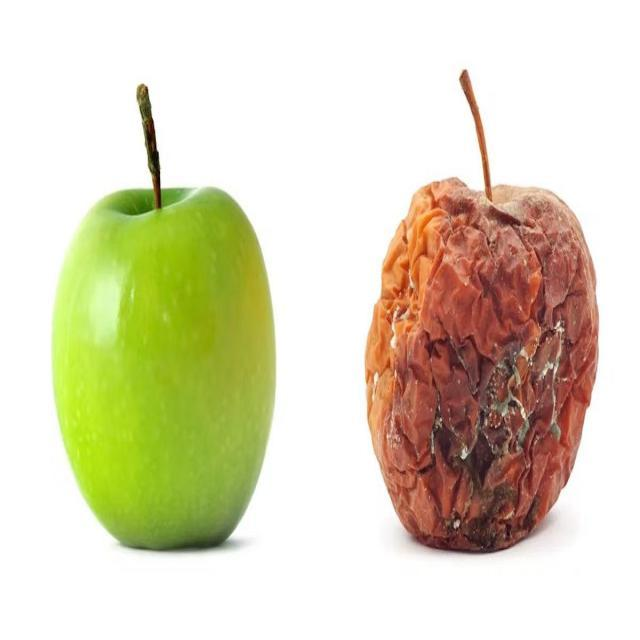Fresh Apple: (74, 176, 270, 564)
Rotten: (366, 178, 594, 564)
